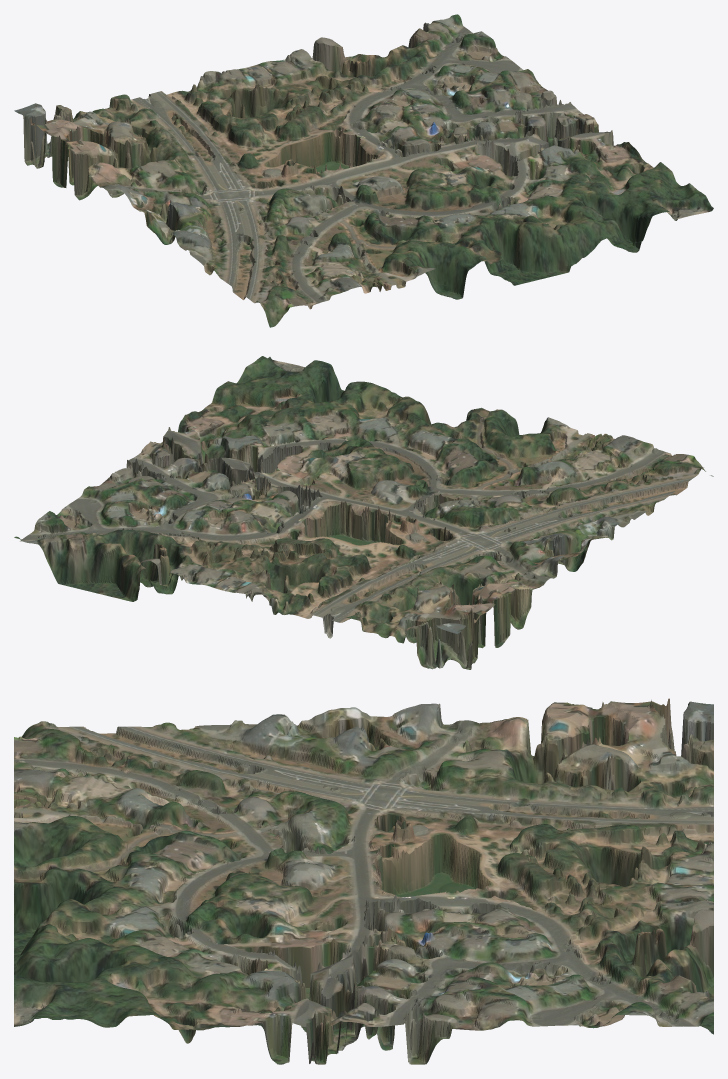
File: before.glb
3 renders of one model, top to bottom at view 1: azimuth 30°, elevation 25°; view 2: azimuth 150°, elevation 25°; view 3: azimuth 270°, elevation 25°, orthographic. The views are drawn at different scales.
Parts seen in each view (by area): view 1: geometry_0; view 2: geometry_0; view 3: geometry_0.
Part boxes in pixels (box(x1,y1,x2,y2)): geometry_0: box(14, 14, 713, 327); geometry_0: box(14, 356, 713, 669); geometry_0: box(14, 698, 713, 1064).
Bounding box in the file's own units: 920 × 109 × 920.
1 material, 1 textured.
